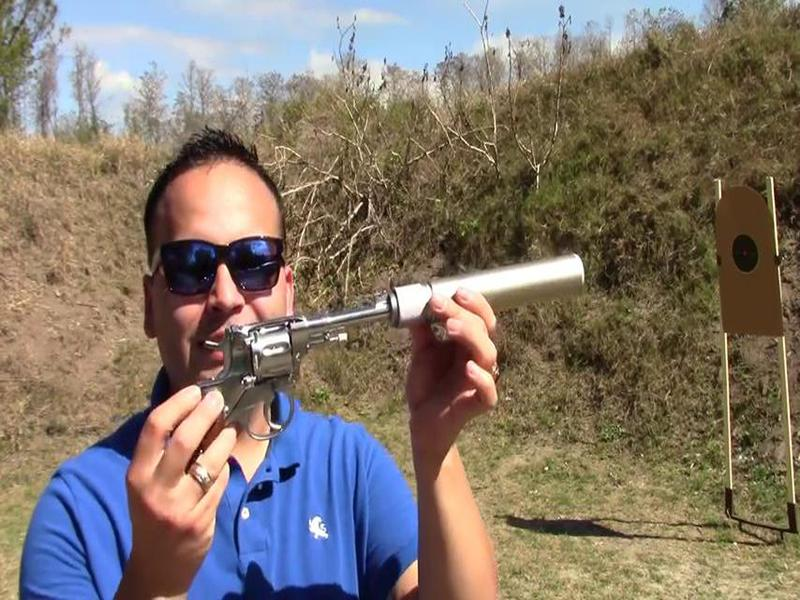Revolver: (151, 272, 401, 503)
